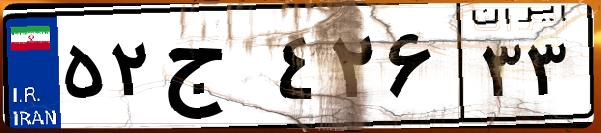2: (330, 28, 385, 110), (110, 28, 158, 98)
3: (475, 38, 525, 113), (525, 38, 570, 115)
4: (270, 28, 330, 110)
5: (57, 26, 110, 100)
6: (385, 28, 445, 110)
ج: (158, 20, 270, 120)
